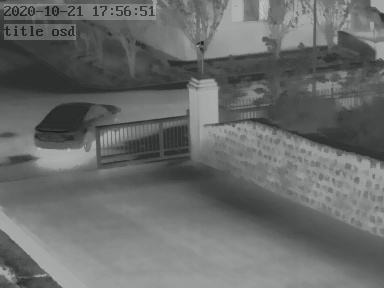vehicle: (28, 100, 118, 152)
